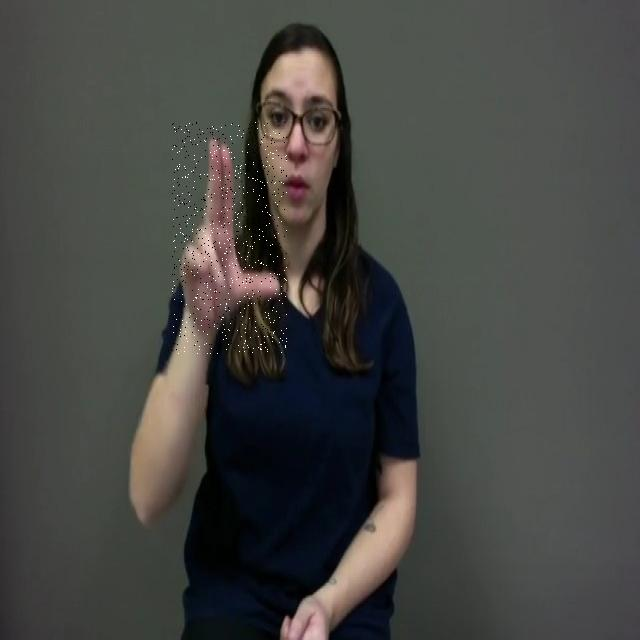no: (172, 122, 287, 354)
